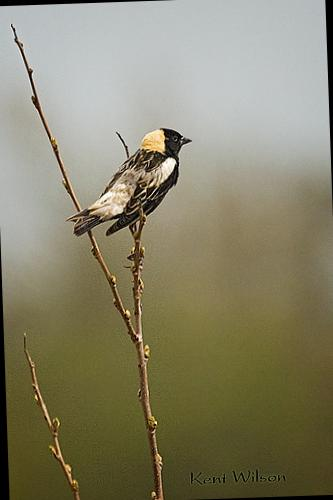bird: (45, 115, 202, 251)
